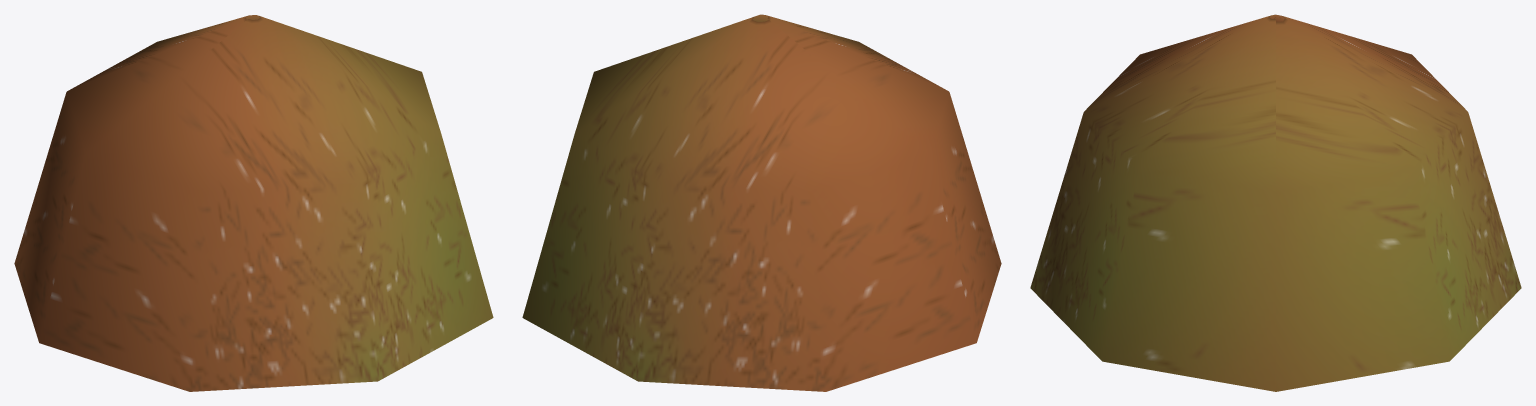
The model's file is Kiwi2.FBX.
3 renders of one model, left to right at view 1: azimuth 30°, elevation 25°; view 2: azimuth 150°, elevation 25°; view 3: azimuth 270°, elevation 25°, orthographic.
Visible parts, largest first — view 1: Kiwi001; view 2: Kiwi001; view 3: Kiwi001.
Part boxes in pixels (bbox=[...]): Kiwi001: bbox=[14, 15, 493, 391]; Kiwi001: bbox=[522, 14, 1001, 391]; Kiwi001: bbox=[1030, 14, 1521, 391].
Bounding box in the file's own units: 5.37 × 3.31 × 5.37.
